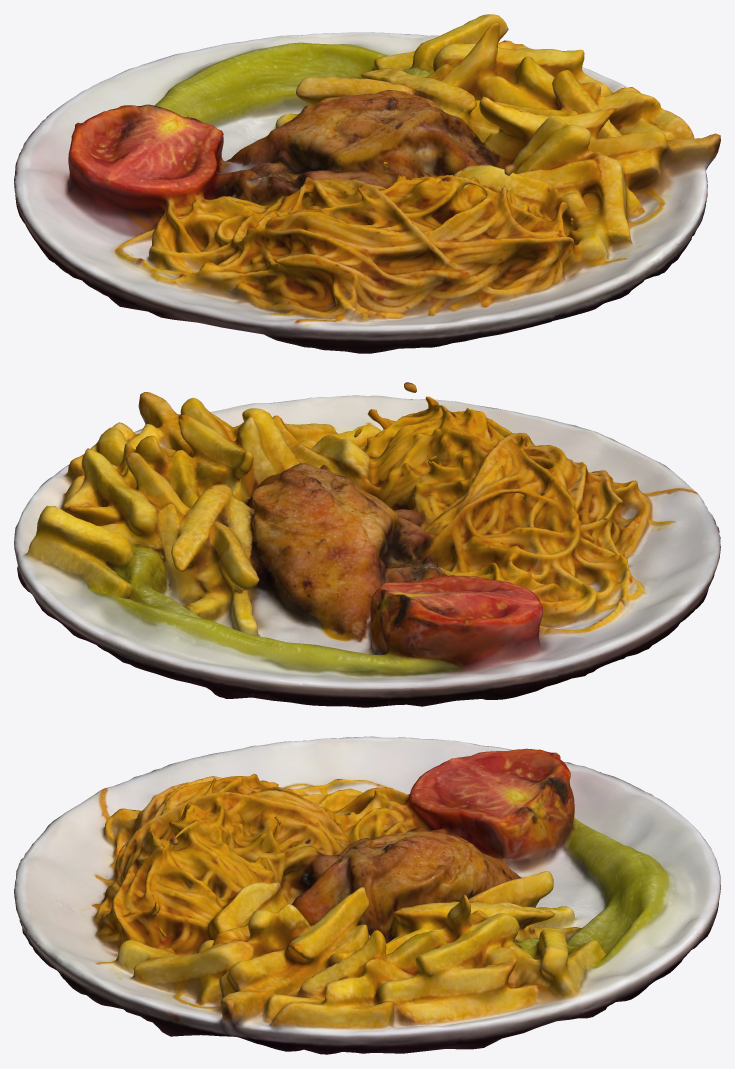
The model's file is campaign-1.glb.
The picture shows the model from 3 angles, top to bottom: view 1: azimuth 30°, elevation 25°; view 2: azimuth 150°, elevation 25°; view 3: azimuth 270°, elevation 25°; orthographic projection.
Bounding box in the file's own units: 0.2981 × 0.0629 × 0.298.
Materials: 1 (1 with a texture image).
